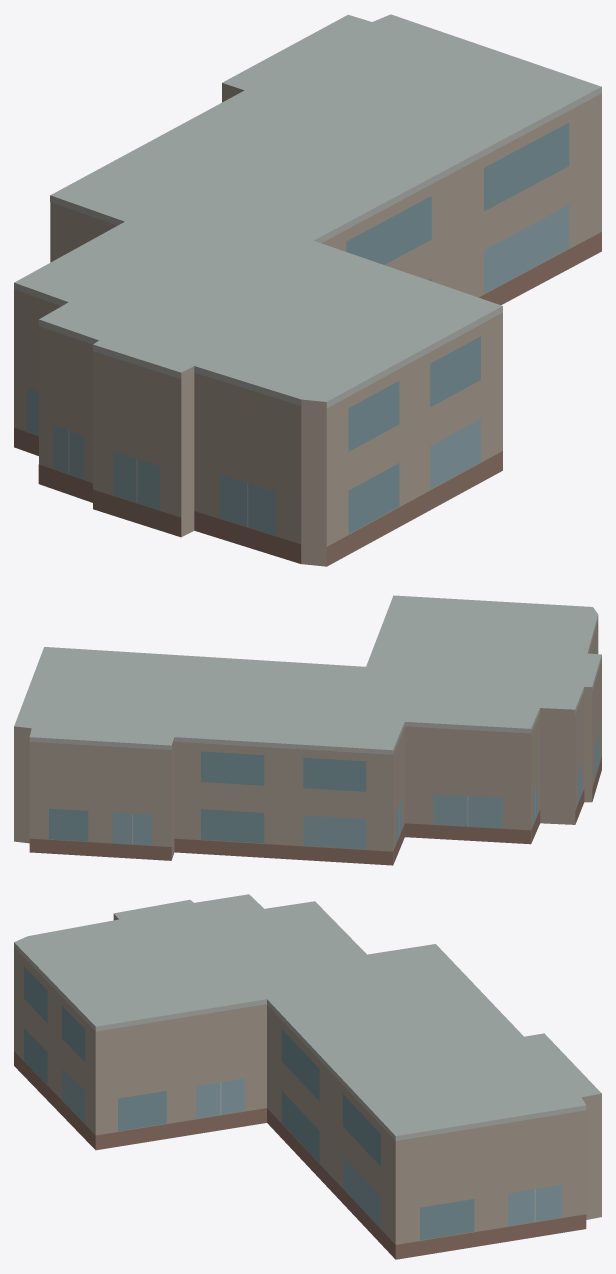
File: survey-upis-32575214.glb
3 views of the same model, one above another, from view 1: azimuth 30°, elevation 25°; view 2: azimuth 150°, elevation 25°; view 3: azimuth 270°, elevation 25° (orthographic). The views are drawn at different scales.
Parts seen in each view (by area): view 1: survey-upis-32575214.tmp; view 2: survey-upis-32575214.tmp; view 3: survey-upis-32575214.tmp.
Boxes of the visible parts, <box> form: survey-upis-32575214.tmp: <box>14,14,601,566</box>; survey-upis-32575214.tmp: <box>14,595,601,865</box>; survey-upis-32575214.tmp: <box>14,894,601,1259</box>.
Bounding box in the file's own units: 25.62 × 6.1 × 26.31.
